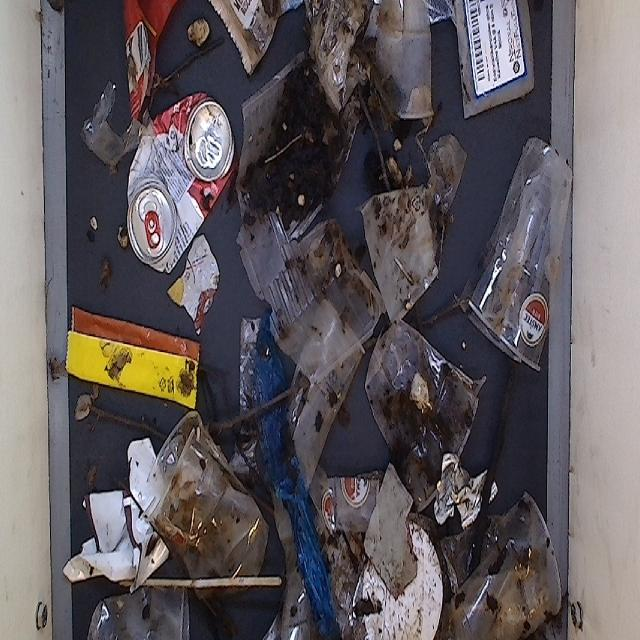drinking_cans: (110, 108, 244, 276)
food_packaging: (234, 205, 388, 392), (230, 46, 370, 244)
food_wrapping: (63, 293, 209, 412), (70, 456, 180, 599), (449, 0, 542, 116), (117, 1, 181, 123)
plastic_cups: (136, 410, 274, 620), (368, 308, 482, 519), (478, 129, 567, 390), (284, 285, 356, 490), (448, 525, 572, 640), (369, 0, 445, 138), (300, 461, 376, 566), (210, 0, 304, 78)
plastic_films: (363, 127, 475, 323), (307, 0, 367, 119)
undef_hard_plastic: (363, 457, 421, 602), (159, 225, 226, 336)
